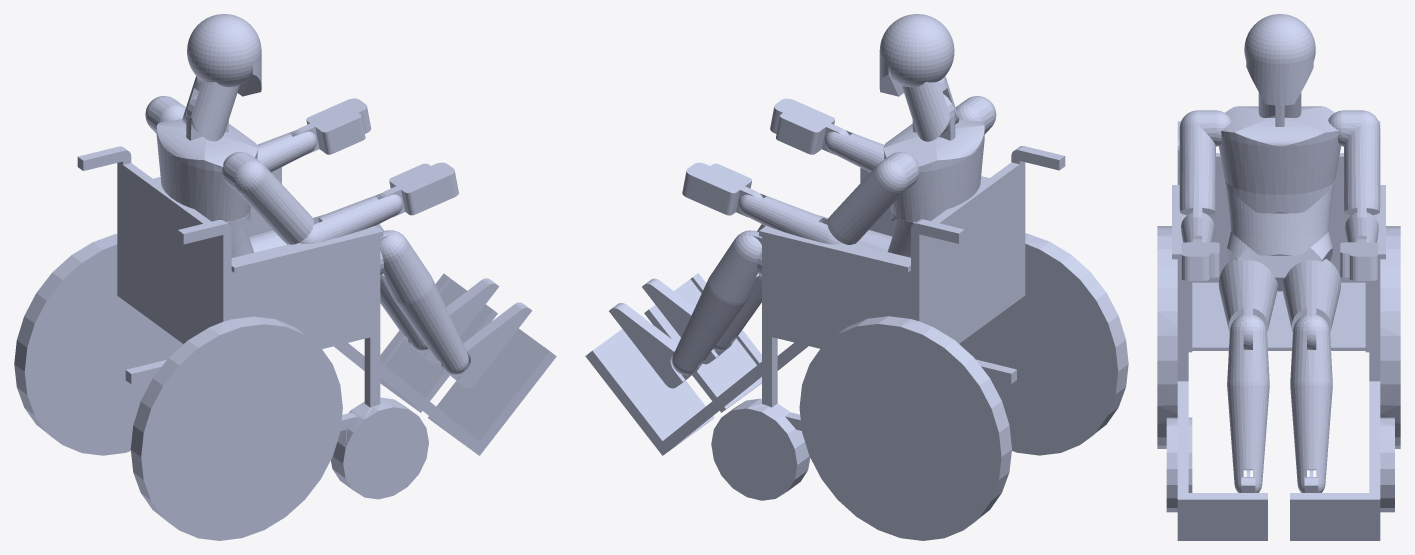
The model's file is wheelchair_and_body_assembly_rviz.dae.
3 renders of one model, left to right at view 1: azimuth 30°, elevation 25°; view 2: azimuth 150°, elevation 25°; view 3: azimuth 270°, elevation 25°, orthographic. The views are drawn at different scales.
Visible parts, largest first — view 1: base_link, head_center; view 2: base_link, head_center; view 3: base_link, head_center.
Boxes of the visible parts, x1,y1,x2,y2 form: base_link: (14, 76, 556, 540); head_center: (187, 14, 261, 96); base_link: (585, 76, 1128, 540); head_center: (879, 14, 954, 96); base_link: (1157, 92, 1400, 540); head_center: (1244, 14, 1315, 105).
Size of the model in its own units: 1.32 by 0.665 by 1.34.
